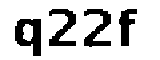2: (82, 7, 113, 51), (46, 8, 78, 49)
f: (118, 7, 142, 51)
q: (11, 19, 45, 60)
